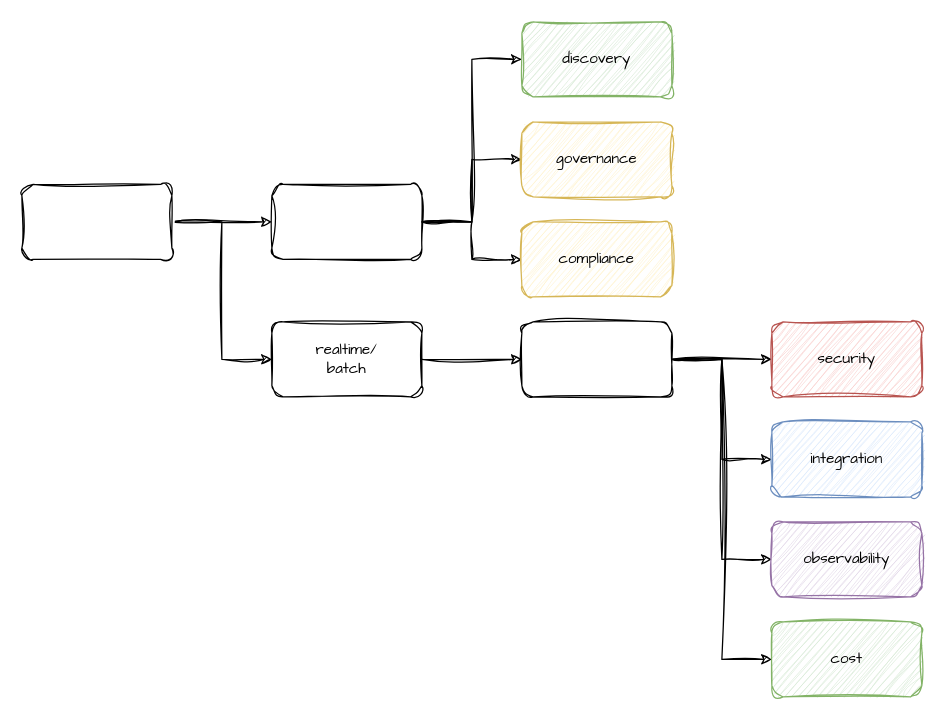
Some shapes in this 944 by 719 pixel diagram are drawn without their labels. The centre of each missing label's shape, as x and y in pixels:
data models: pixel 346 221
infrastructure: pixel 596 359
use case: pixel 96 221
